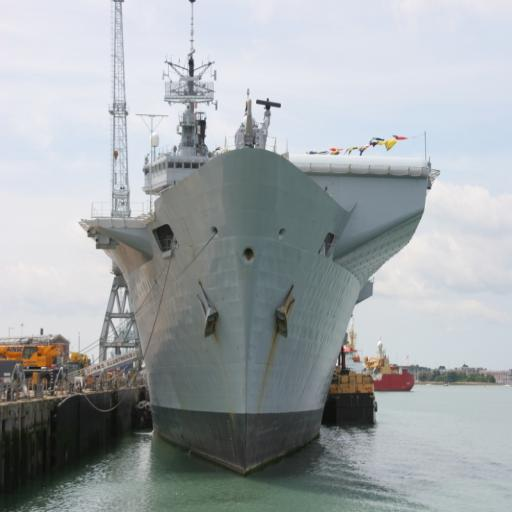Portanaves: (79, 38, 444, 481)
